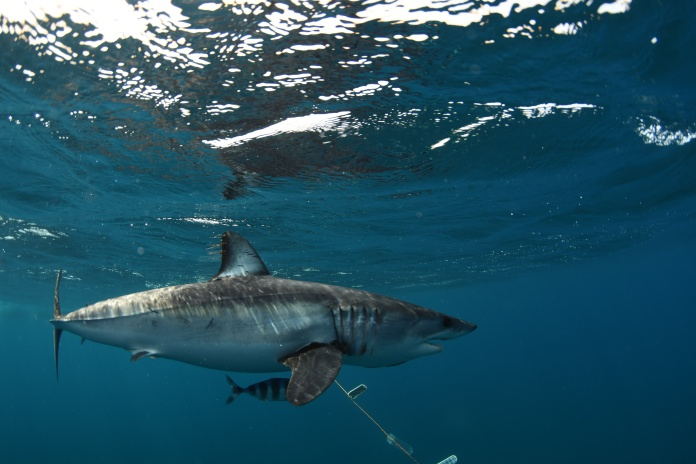Mako: (28, 223, 480, 422)
